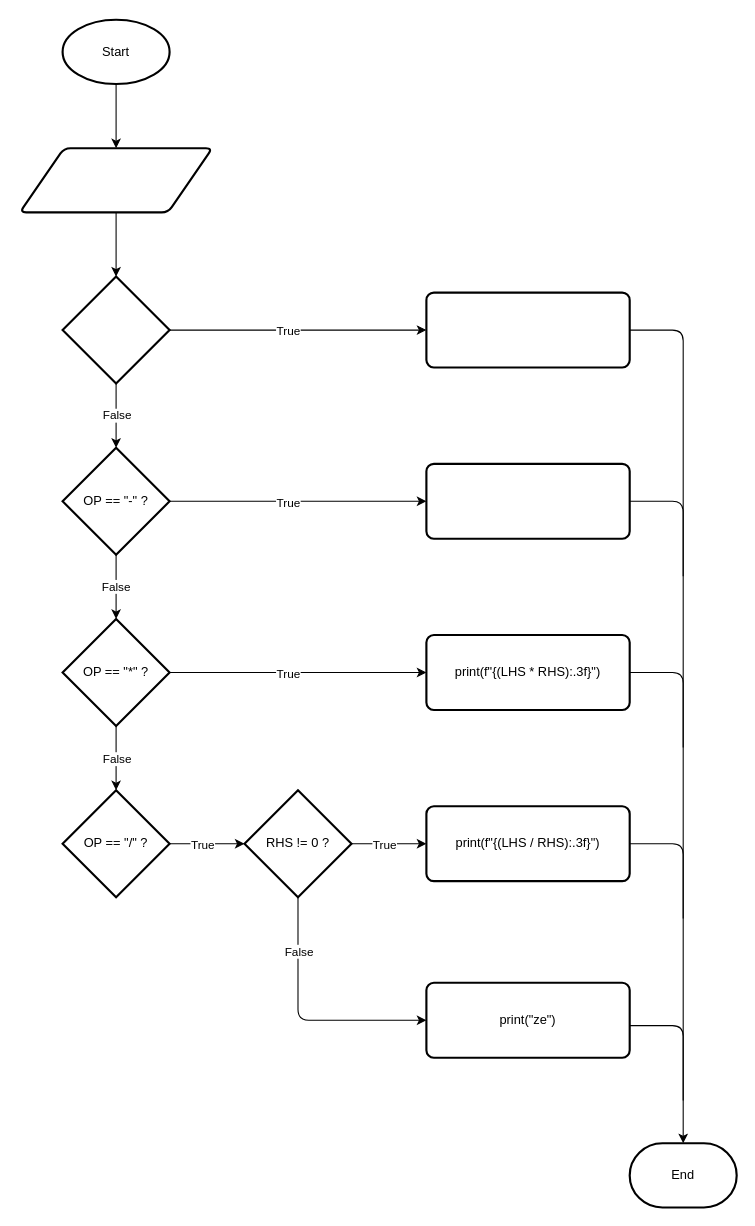
The diagram is 755 pixels wide and 1226 high, and some of its shapes have lost their labels. The box of each missing label's shape, as (x1, y1, x2, y2) in pixels:
INPUT LHS, OP, RHS: (18, 147, 213, 213)
OP == "+" ?: (61, 275, 170, 384)
print(f"{(LHS + RHS):.3f}"): (425, 291, 630, 368)
print(f"{(LHS - RHS):.3f}"): (425, 462, 630, 539)
